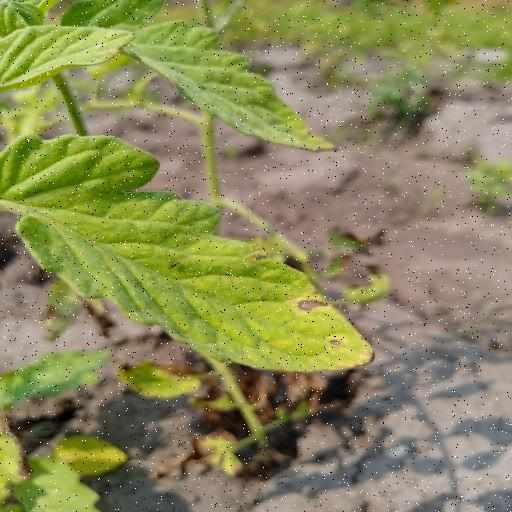Tomato_Brown_Spots: (0, 127, 378, 376)
